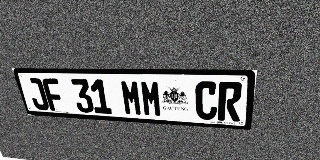1: (88, 79, 112, 114)
3: (70, 79, 95, 113)
C: (195, 81, 218, 120)
F: (41, 78, 66, 111)
J: (25, 78, 50, 110)
M: (120, 80, 143, 116), (140, 80, 162, 117)
R: (217, 82, 243, 122)
